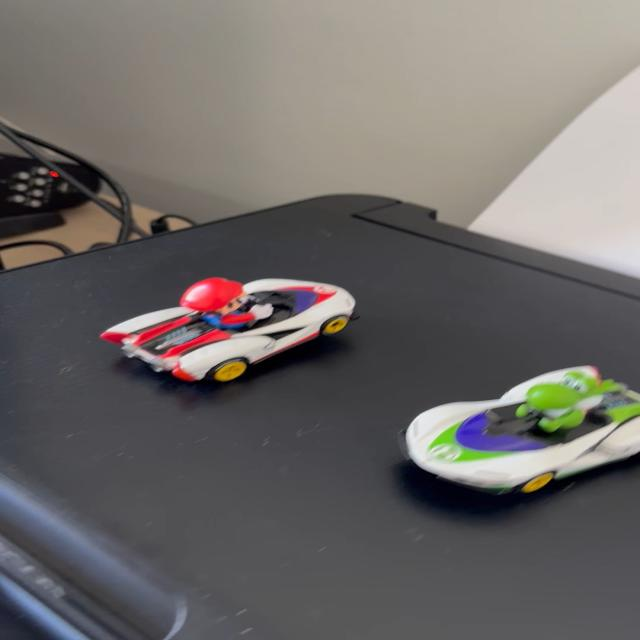mario: (87, 268, 380, 392)
yoshi: (386, 354, 640, 506)
